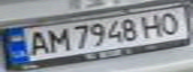4: (106, 18, 127, 44)
7: (69, 21, 90, 50)
8: (121, 16, 142, 42)
9: (87, 20, 109, 47)
A: (21, 28, 51, 57)
H: (136, 11, 169, 38)
M: (42, 26, 69, 54)
O: (154, 9, 184, 35)
